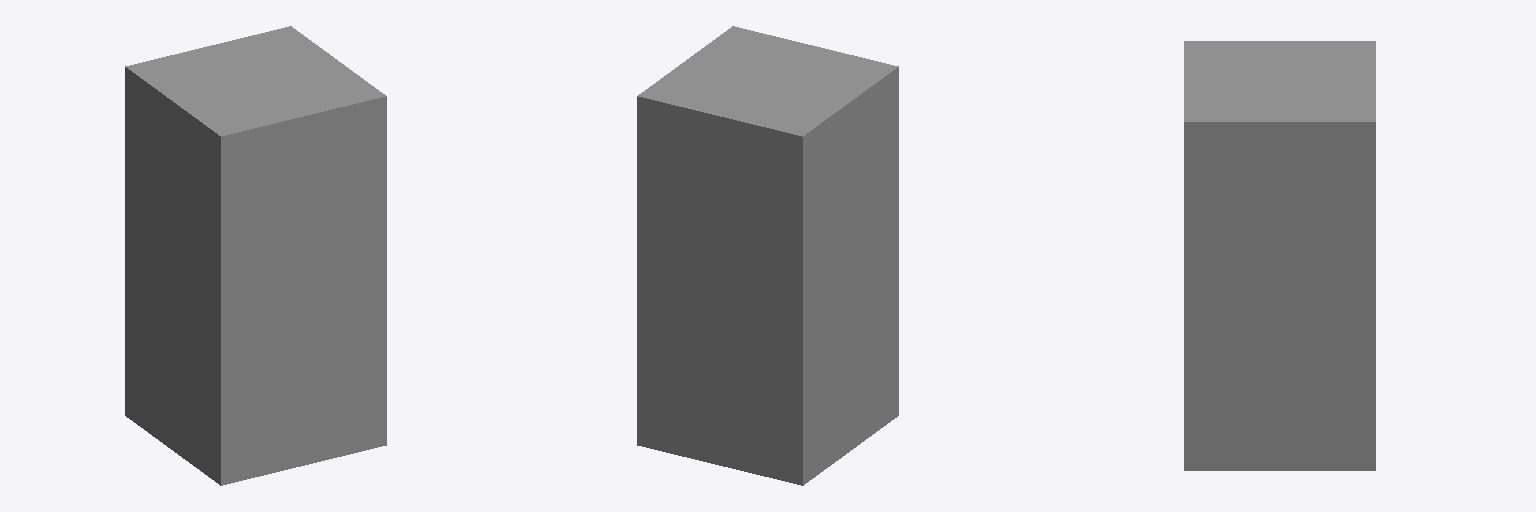
The model's file is rig_test.obj.
3 views of the same model, side by side, from view 1: azimuth 30°, elevation 25°; view 2: azimuth 150°, elevation 25°; view 3: azimuth 270°, elevation 25° (orthographic).
Parts seen in each view (by area): view 1: Cube; view 2: Cube; view 3: Cube.
Part boxes in pixels (bbox=[...]): Cube: bbox=[125, 26, 386, 485]; Cube: bbox=[637, 26, 898, 485]; Cube: bbox=[1184, 41, 1375, 470].
Bounding box in the file's own units: 2 × 4.02 × 2.